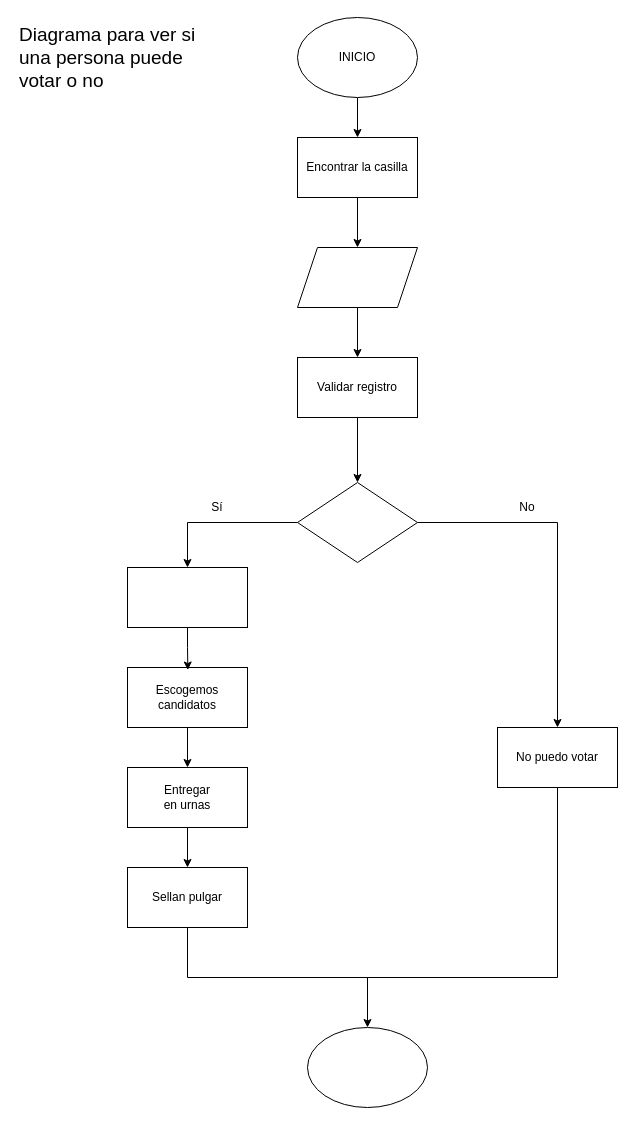
This 635x1125 diagram has some shape labels left out. The shapes that lost their labels are listed below. From the top down, each one's box as (x1, y1, x2, y2) in pixels, then its label:
(296, 246, 418, 308): Entregar documentos
(296, 482, 418, 562): ¿Datos validados?
(126, 566, 248, 628): Recibir boletas
(306, 1026, 428, 1108): FIN
